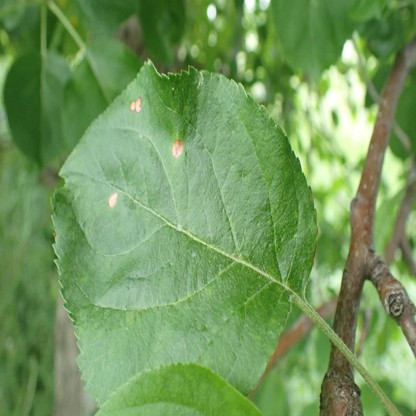frogeye_leaf_spot: (172, 138, 183, 157), (130, 97, 142, 113), (108, 191, 117, 209)
